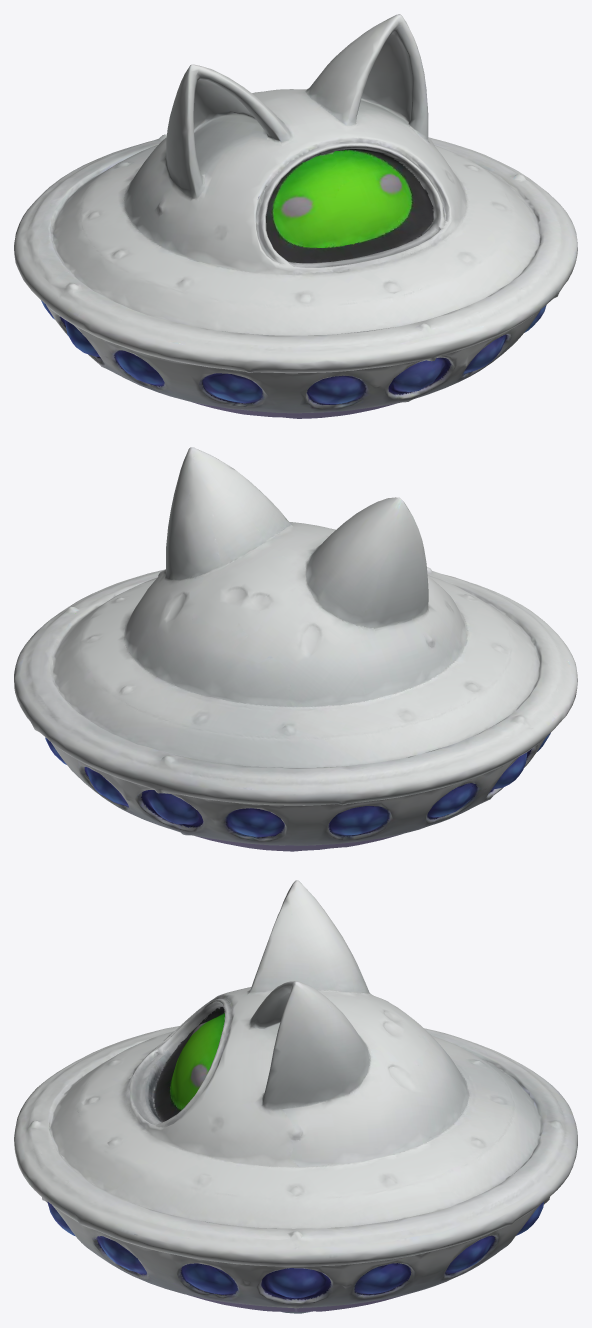
Rendered from mothership.glb.
3 views of the same model, one above another, from view 1: azimuth 30°, elevation 25°; view 2: azimuth 150°, elevation 25°; view 3: azimuth 270°, elevation 25° (orthographic).
Size of the model in its own units: 1 by 0.6943 by 1.
1 material, 1 textured.
